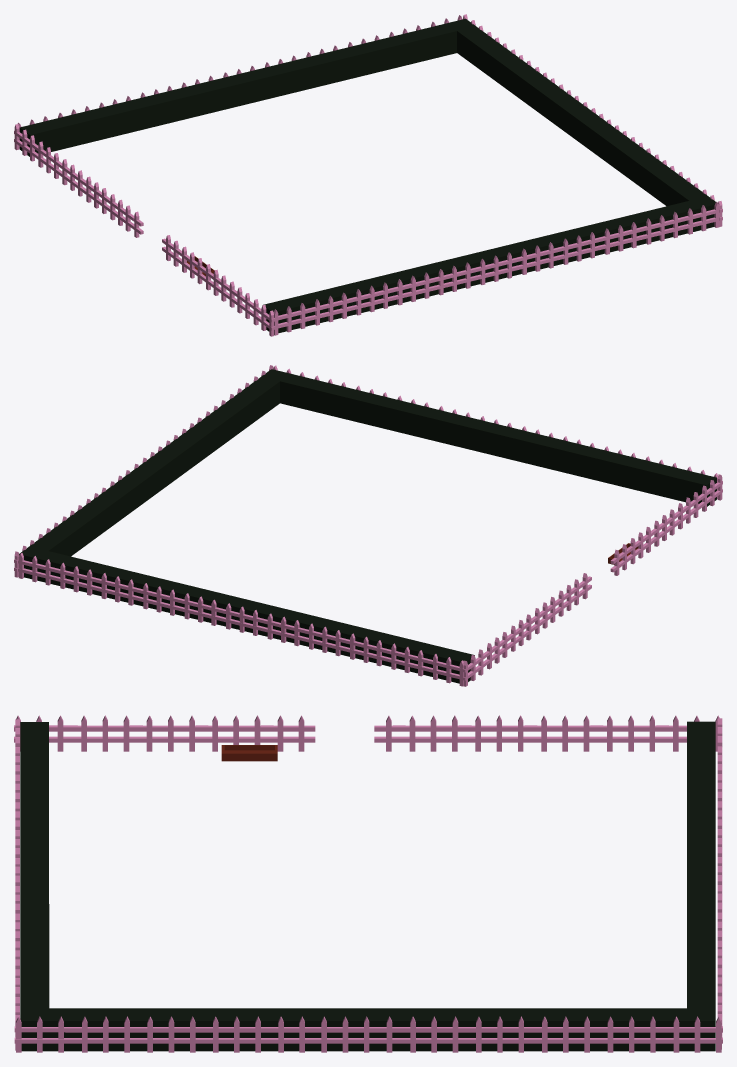
Rendered from PigPen.obj.
3 views of the same model, one above another, from view 1: azimuth 30°, elevation 25°; view 2: azimuth 150°, elevation 25°; view 3: azimuth 270°, elevation 25° (orthographic). The views are drawn at different scales.
Parts seen in each view (by area): view 1: Bushes, Fences; view 2: Bushes, Fences; view 3: Bushes, Fences, ClayCube.
Part boxes in pixels (x1,y1,x2,y2): Bushes: [19, 18, 715, 333]; Fences: [14, 14, 722, 336]; Bushes: [19, 369, 716, 683]; Fences: [14, 365, 722, 686]; Bushes: [20, 721, 715, 1051]; Fences: [14, 715, 722, 1052]; ClayCube: [221, 745, 277, 761].
Bounding box in the file's own units: 81.25 × 4.32 × 80.38.
